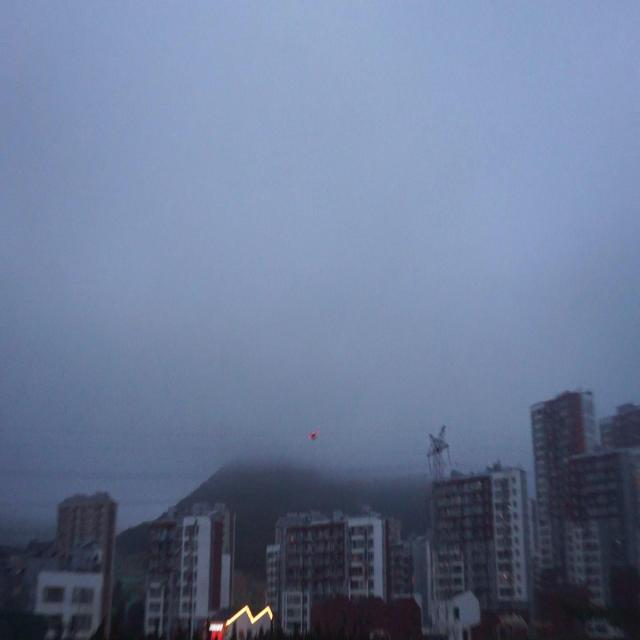drone: (305, 426, 322, 444)
